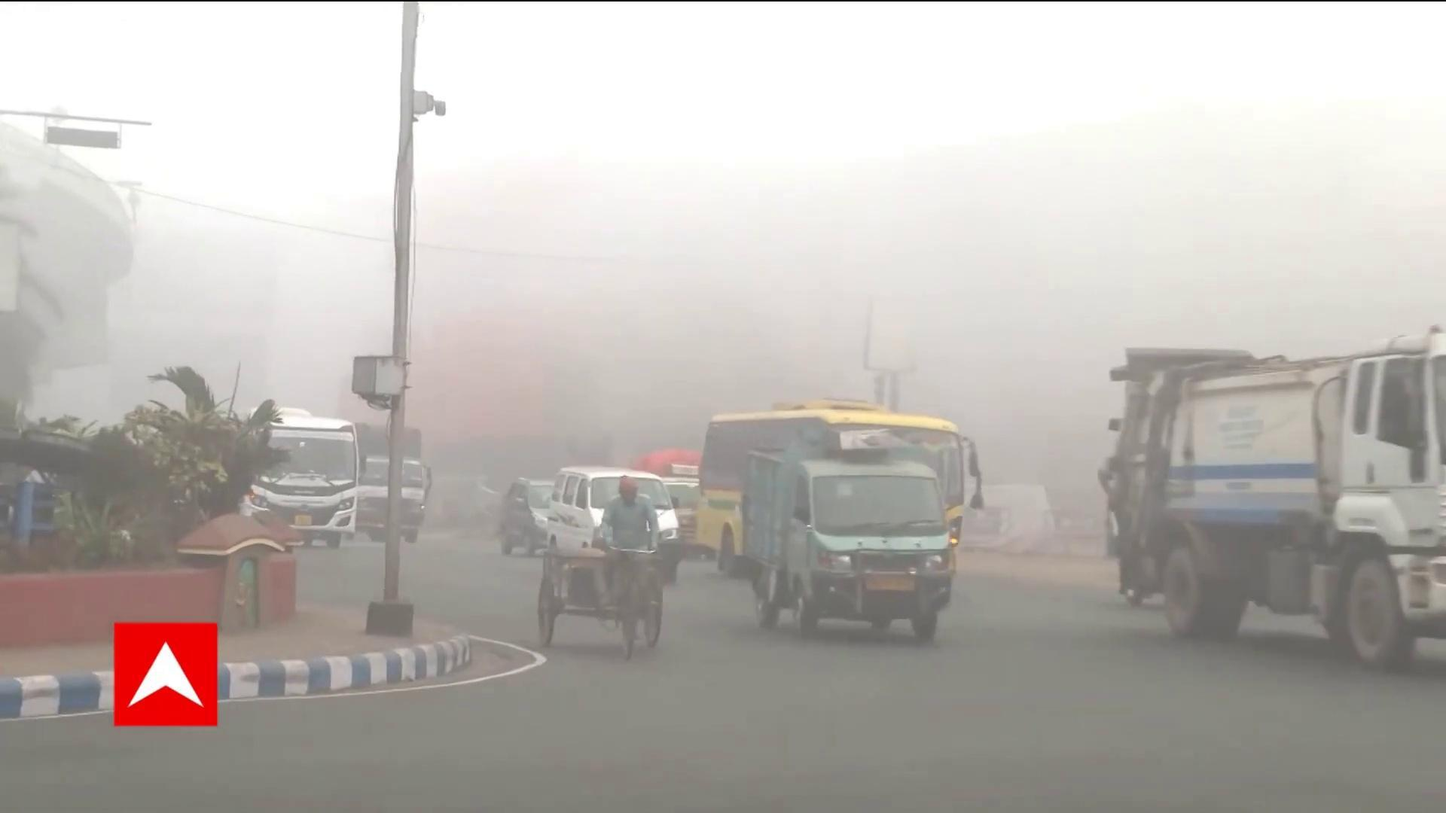Bus: (702, 394, 976, 578)
Car: (548, 466, 680, 575)
Truck: (1097, 315, 1446, 676), (738, 422, 958, 646)
